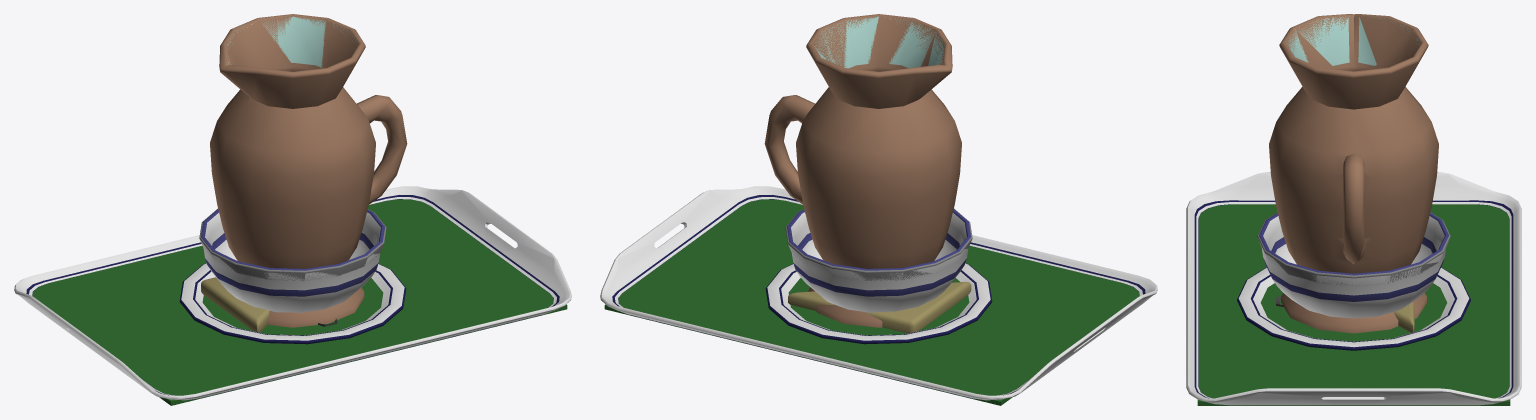
File: Dishes.fbx
The picture shows the model from 3 angles, left to right: view 1: azimuth 30°, elevation 25°; view 2: azimuth 150°, elevation 25°; view 3: azimuth 270°, elevation 25°; orthographic projection. The views are drawn at different scales.
Visible parts, largest first — view 1: Placemat01A, Pitcher01A, Tray01A, Bowl03A, Plate01A, Pitcher01B, Bowl04A, Napkin01B; view 2: Placemat01A, Pitcher01A, Tray01A, Bowl03A, Plate01A, Pitcher01B, Napkin01B, Bowl04A; view 3: Pitcher01A, Placemat01A, Tray01A, Bowl03A, Plate01A, Pitcher01B, Bowl04A, Napkin01B.
Boxes of the visible parts, box(x1,y1,x2,y2) form: Placemat01A: box(32, 199, 567, 405); Pitcher01A: box(210, 14, 407, 327); Tray01A: box(14, 186, 571, 400); Bowl03A: box(200, 209, 384, 312); Plate01A: box(179, 263, 406, 344); Pitcher01B: box(227, 16, 357, 67); Bowl04A: box(199, 208, 386, 280); Napkin01B: box(201, 277, 269, 332); Placemat01A: box(604, 199, 1139, 405); Pitcher01A: box(764, 14, 961, 327); Tray01A: box(600, 186, 1157, 400); Bowl03A: box(787, 209, 970, 312); Plate01A: box(765, 263, 992, 344); Pitcher01B: box(814, 16, 944, 68); Napkin01B: box(788, 282, 971, 333); Bowl04A: box(785, 208, 972, 281); Pitcher01A: box(1269, 14, 1438, 333); Placemat01A: box(1197, 204, 1510, 405); Tray01A: box(1186, 172, 1521, 405); Bowl03A: box(1259, 213, 1448, 318); Plate01A: box(1237, 267, 1470, 350); Pitcher01B: box(1287, 16, 1420, 65); Bowl04A: box(1257, 212, 1450, 285); Napkin01B: box(1394, 301, 1414, 332).
Size of the model in its own units: 0.672 by 0.3808 by 0.4362.
